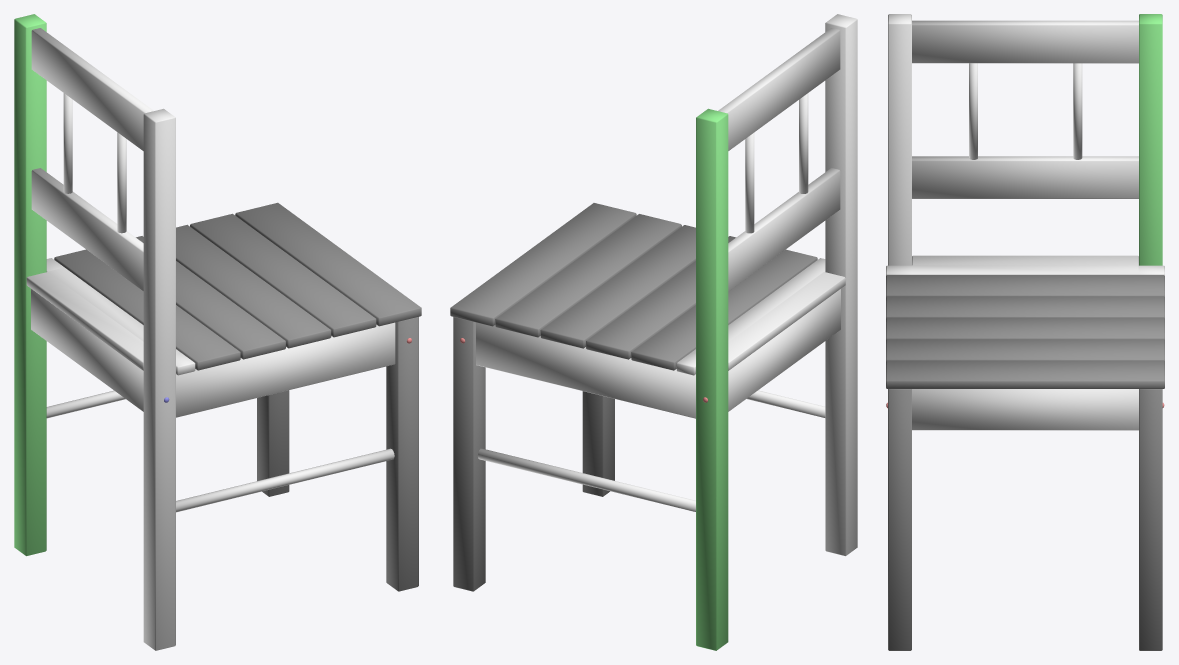
File: chair4.fbx
3 renders of one model, left to right at view 1: azimuth 30°, elevation 25°; view 2: azimuth 150°, elevation 25°; view 3: azimuth 270°, elevation 25°, orthographic. The views are drawn at different scales.
Parts seen in each view (by area): view 1: chair4; view 2: chair4; view 3: chair4.
Part boxes in pixels (box(x1,y1,x2,y2)): chair4: box(14, 14, 421, 650); chair4: box(450, 14, 857, 650); chair4: box(886, 14, 1164, 650).
Size of the model in its own units: 79.49 by 151 by 74.52.
